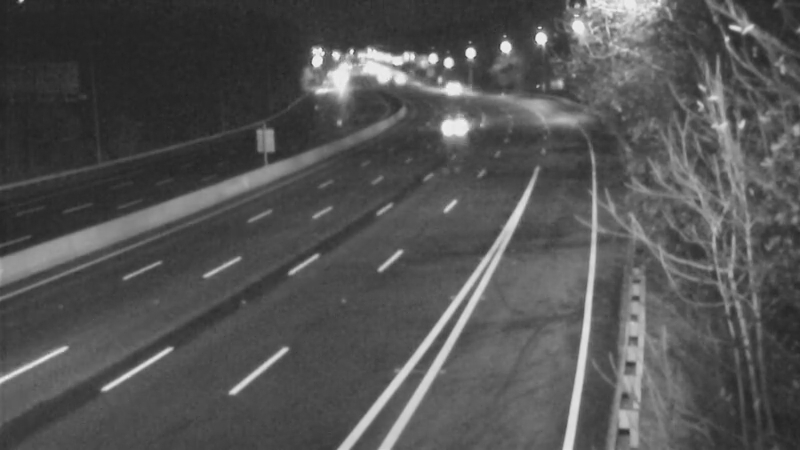vehicle: (375, 52, 425, 102), (421, 63, 471, 113), (437, 99, 487, 149)
